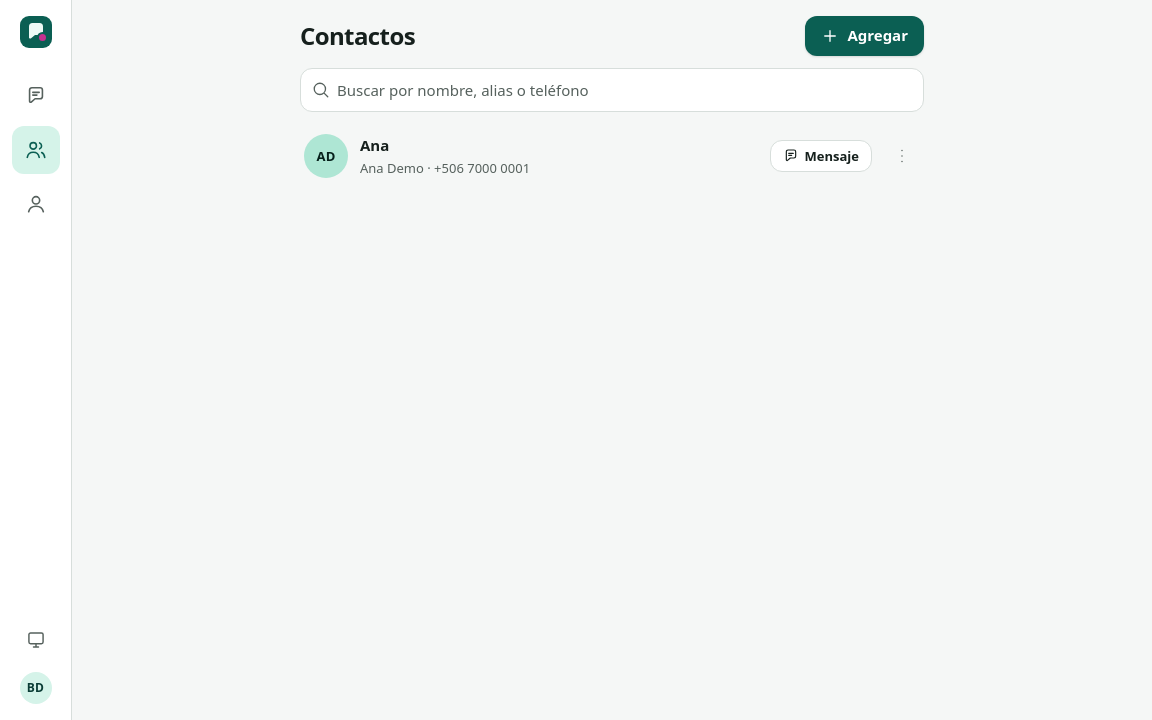
Test: contactos › agrega por teléfono local y muestra 404 genérico si el número no existe
This screenshot has width=1152, height=720.
Step 1. Click the button "Agregar" → (865, 36), box [805,16,924,56]
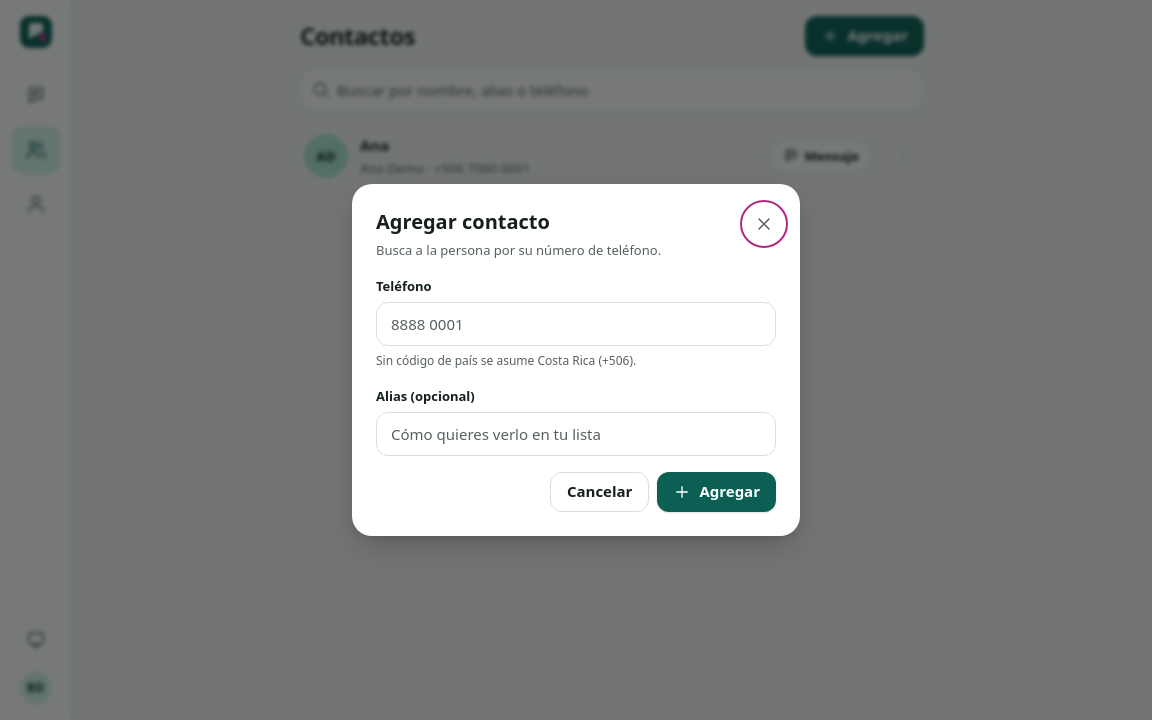
Step 2. Type "8888 9999" into the field labelled "Teléfono" → (576, 324), box [376,302,776,346]
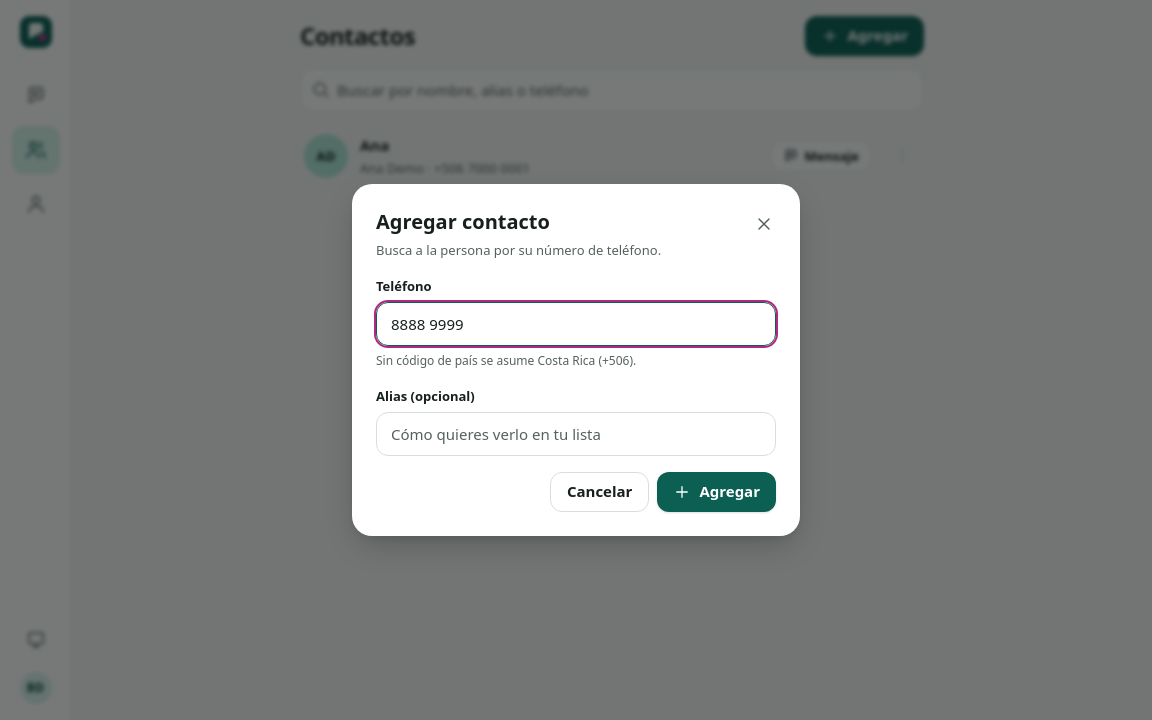
Step 3. Click the button "Agregar" → (717, 492), box [657,472,776,512]
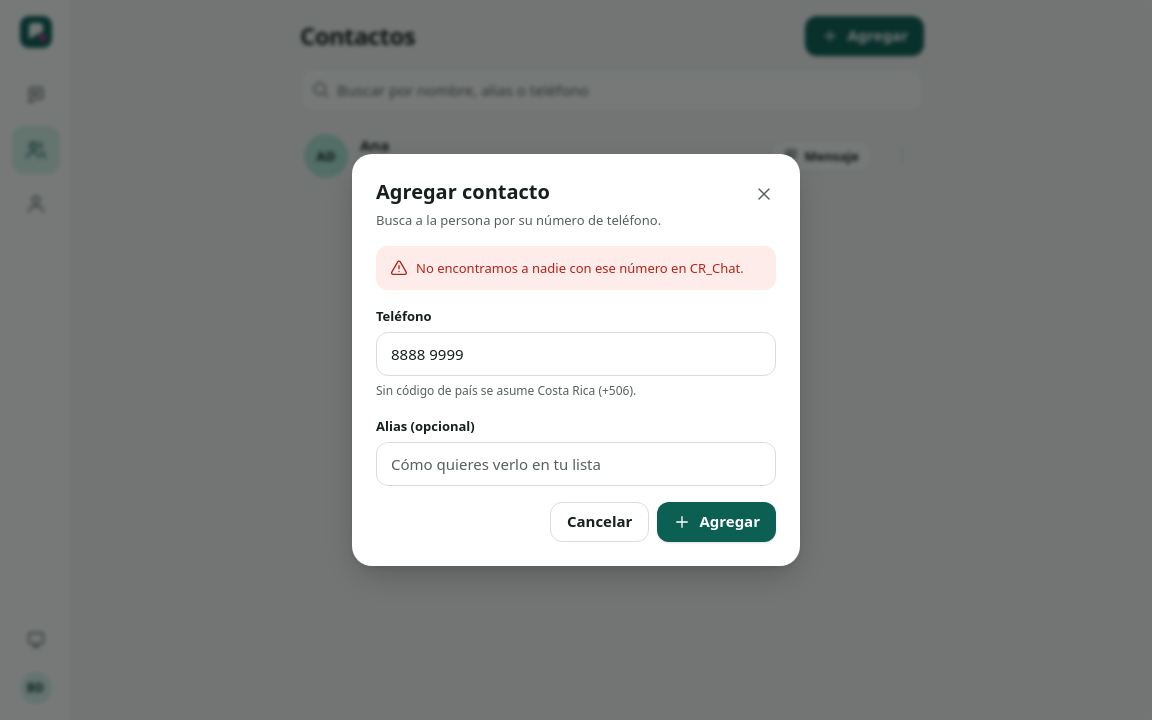
Result: the message shows "No encontramos a nadie con ese número" at [416,259,744,277]
Step 4. Replace the text in the field labelled "Teléfono" with "7000 0003" → (576, 354), box [376,332,776,376]
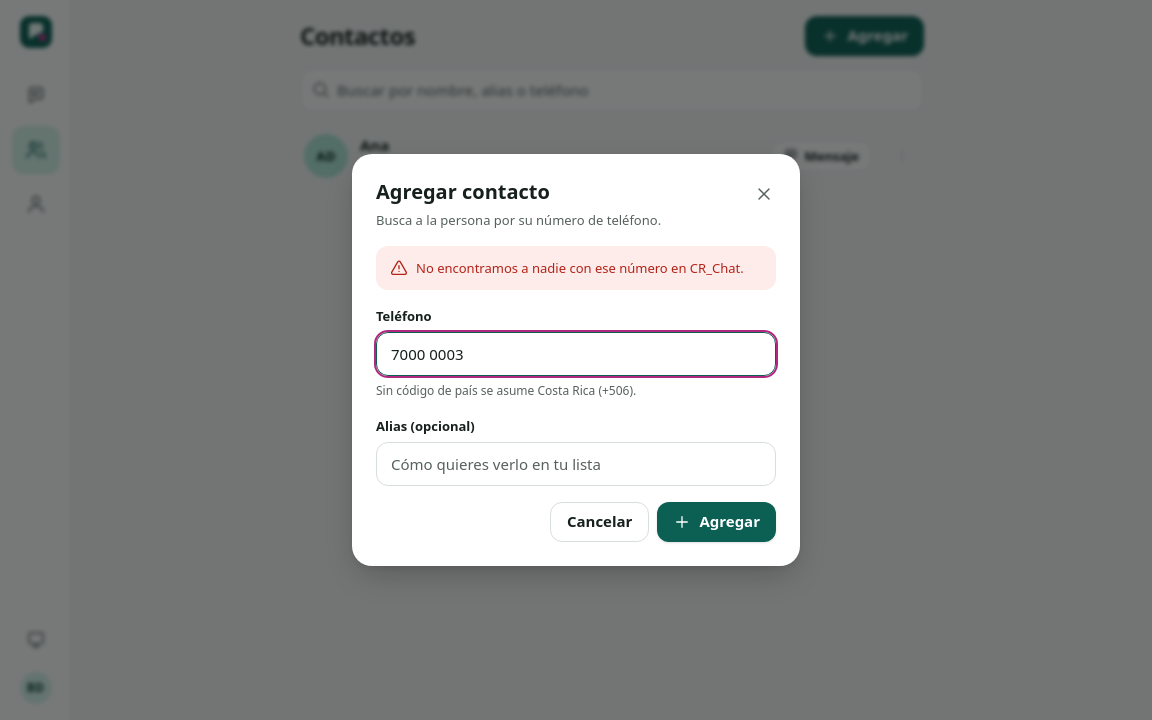
Step 5. Type "Carlita" into the field labelled "Alias (opcional)" → (576, 464), box [376,442,776,486]
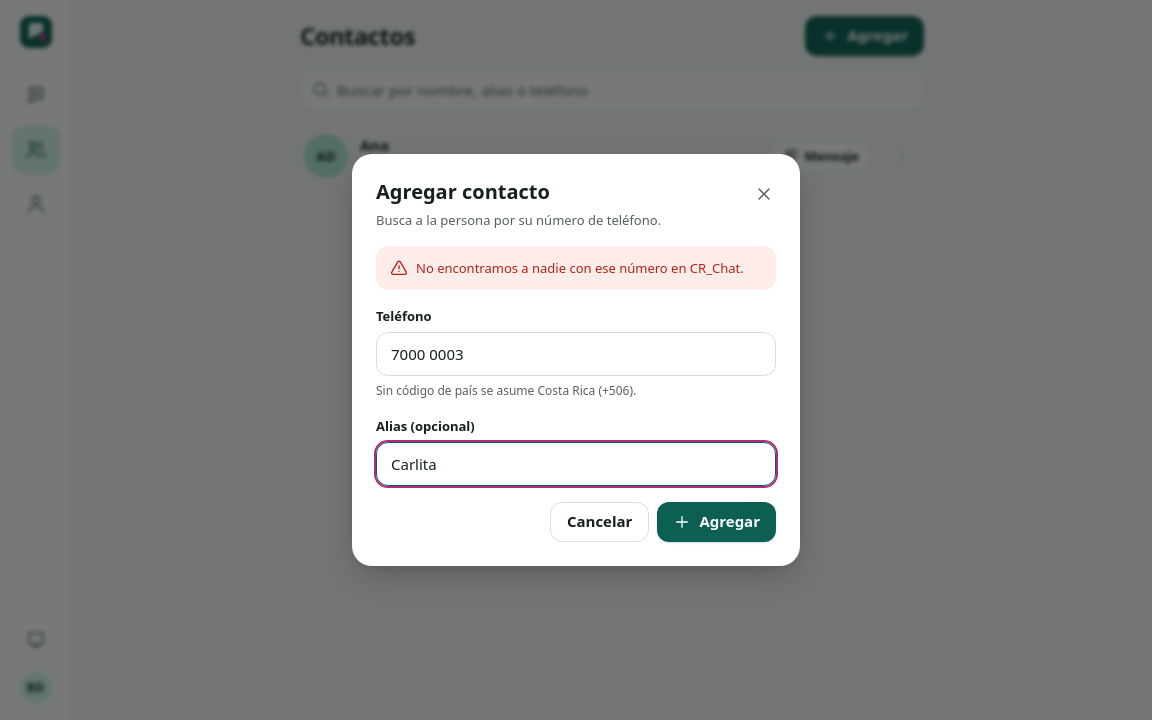
Step 6. Click the button "Agregar" → (717, 522), box [657,502,776,542]
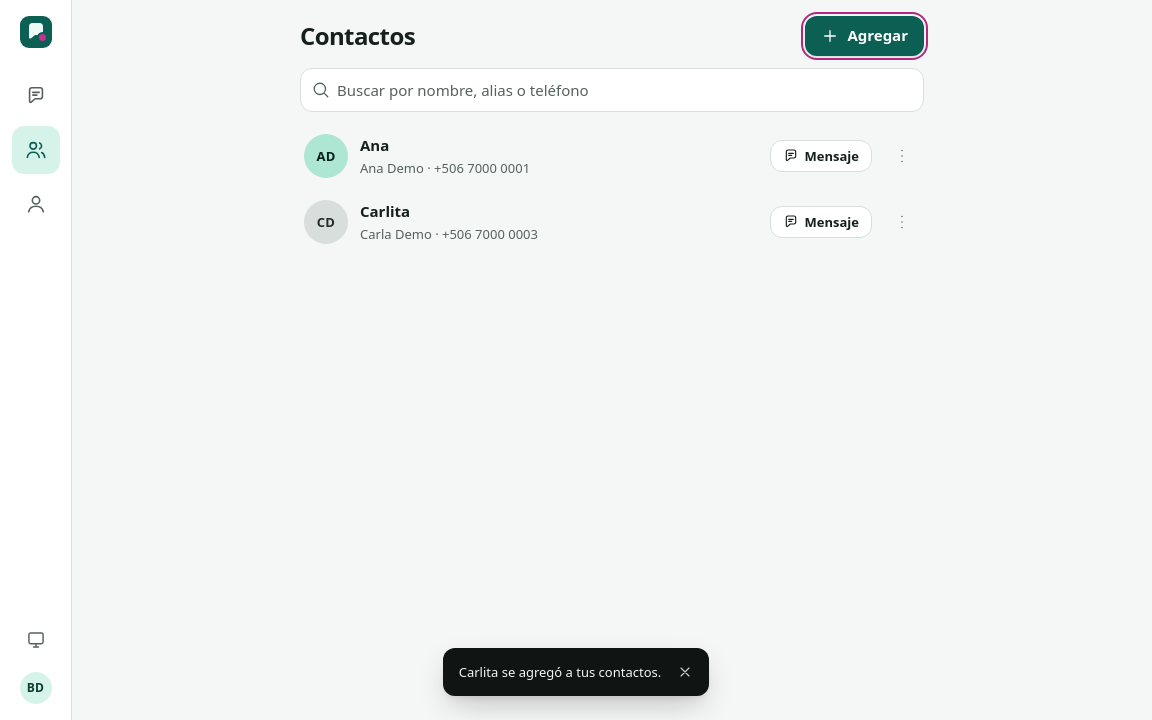
Result: the text "Carlita se agregó a tus contactos." is shown at [459,662,661,682]
Result: the text "Carlita" is shown at [360,201,410,221]
